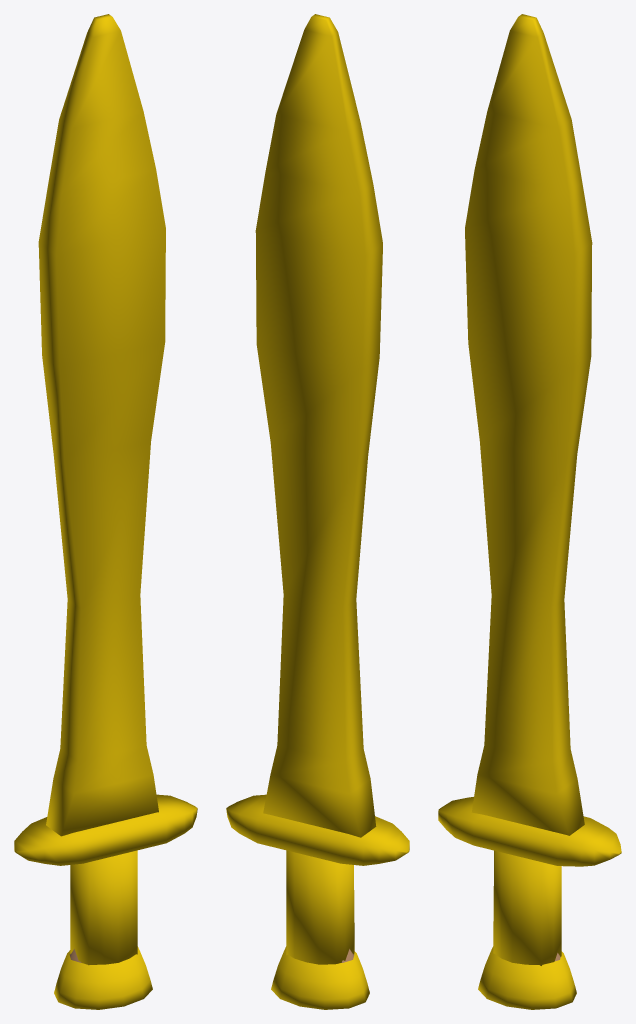
Rendered from BrilloEspada.fbx.
3 views of the same model, side by side, from view 1: azimuth 30°, elevation 25°; view 2: azimuth 150°, elevation 25°; view 3: azimuth 330°, elevation 25° (orthographic).
Parts seen in each view (by area): view 1: Brilo Espada; view 2: Brilo Espada; view 3: Brilo Espada.
Part boxes in pixels (x1,y1,x2,y2): Brilo Espada: (14,14,197,1009); Brilo Espada: (226,14,409,1009); Brilo Espada: (438,14,621,1009).
Bounding box in the file's own units: 17.72 × 91.4 × 7.06.
3 materials, 2 textured.
